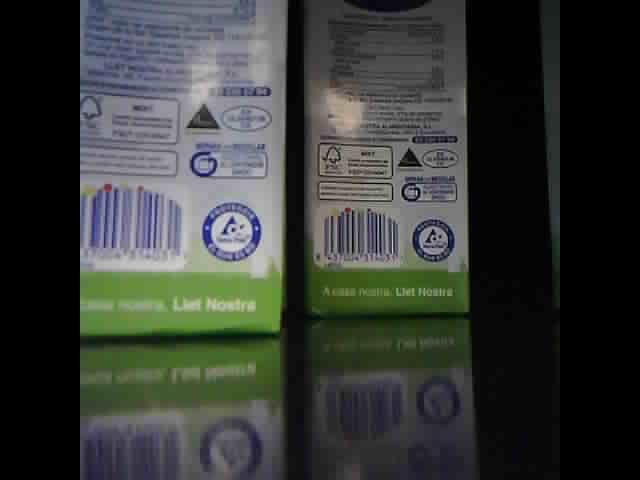leche: (79, 3, 287, 337), (306, 7, 469, 320)
